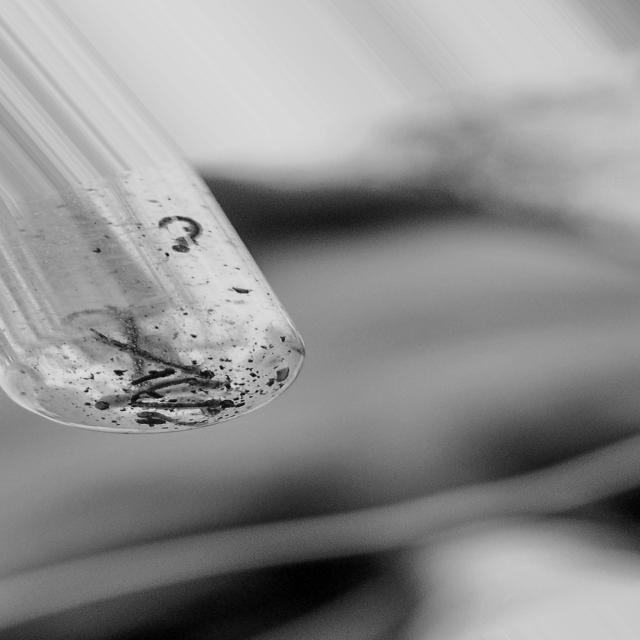larvas: (91, 326, 214, 382), (160, 213, 200, 253), (132, 378, 198, 399), (137, 412, 205, 429), (133, 398, 234, 409), (62, 308, 114, 322), (121, 313, 148, 339), (97, 392, 130, 412), (130, 368, 174, 382)
